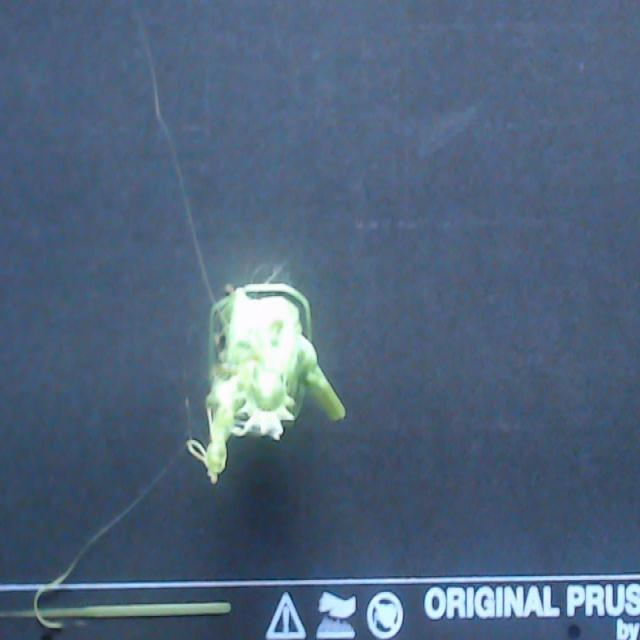mistake: (33, 456, 174, 628), (138, 19, 214, 299), (138, 20, 214, 299), (186, 395, 198, 457)
